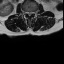CCS_stenosis: (28, 10, 30, 18)
LFS_stenosis: (32, 10, 34, 15)
LLS_stenosis: (30, 10, 32, 16)
RFS_normal: (24, 10, 27, 15)
RLS_normal: (27, 10, 29, 16)
